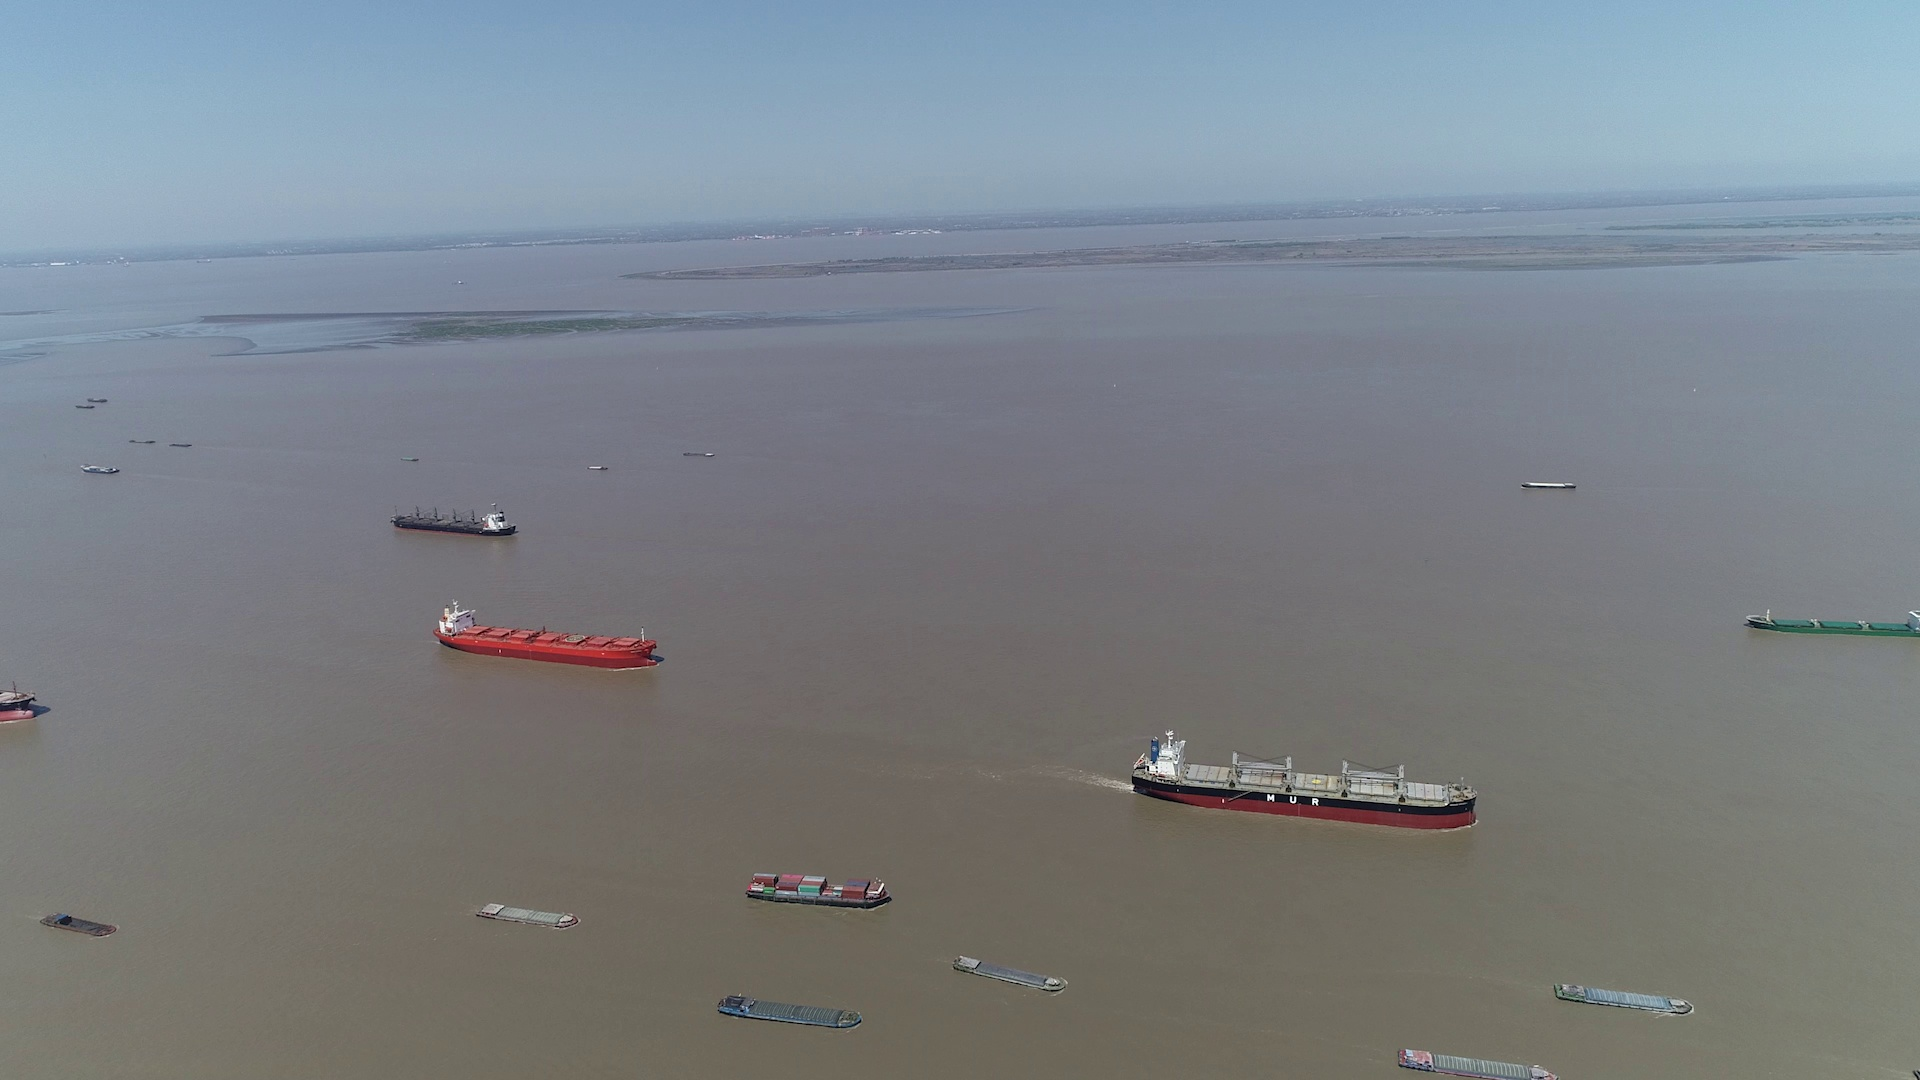ship: (1129, 731, 1480, 827), (436, 599, 657, 669), (745, 873, 891, 910), (717, 996, 862, 1033), (1742, 609, 1919, 638), (1399, 1047, 1553, 1079), (1553, 981, 1695, 1014), (955, 957, 1067, 994), (390, 504, 520, 535), (477, 901, 578, 927), (0, 673, 44, 724), (44, 913, 117, 936), (82, 462, 120, 475), (1523, 483, 1577, 491), (683, 450, 715, 458)
